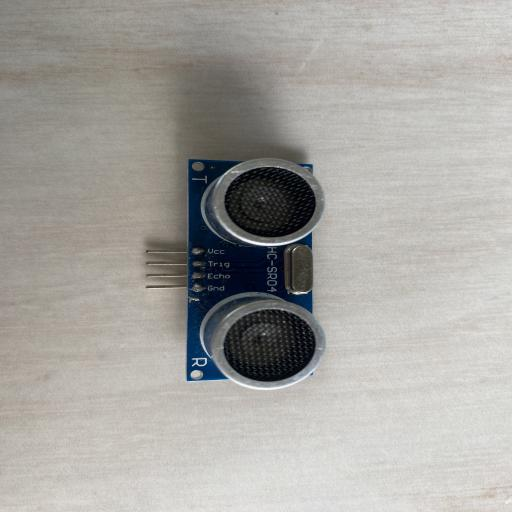Ultrasonic Sensor: (146, 158, 326, 390)
